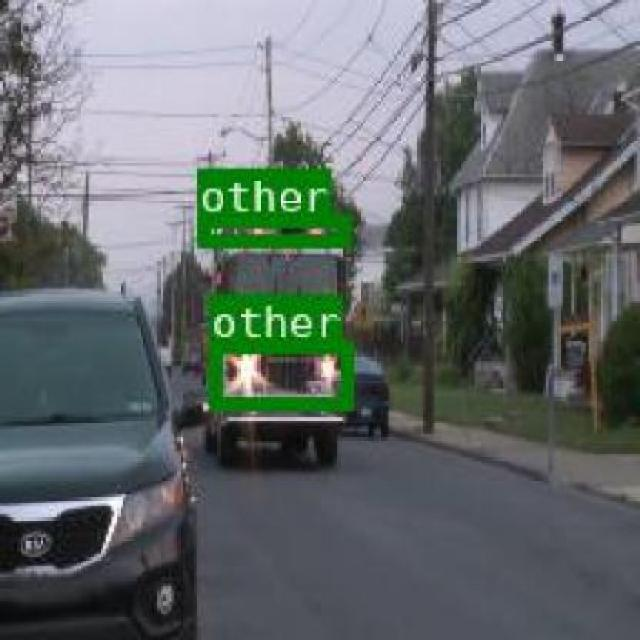other: (208, 338, 350, 407), (196, 213, 347, 244)
